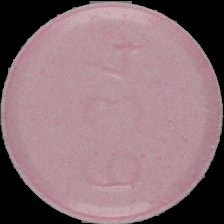63739-281: (0, 0, 224, 224)
